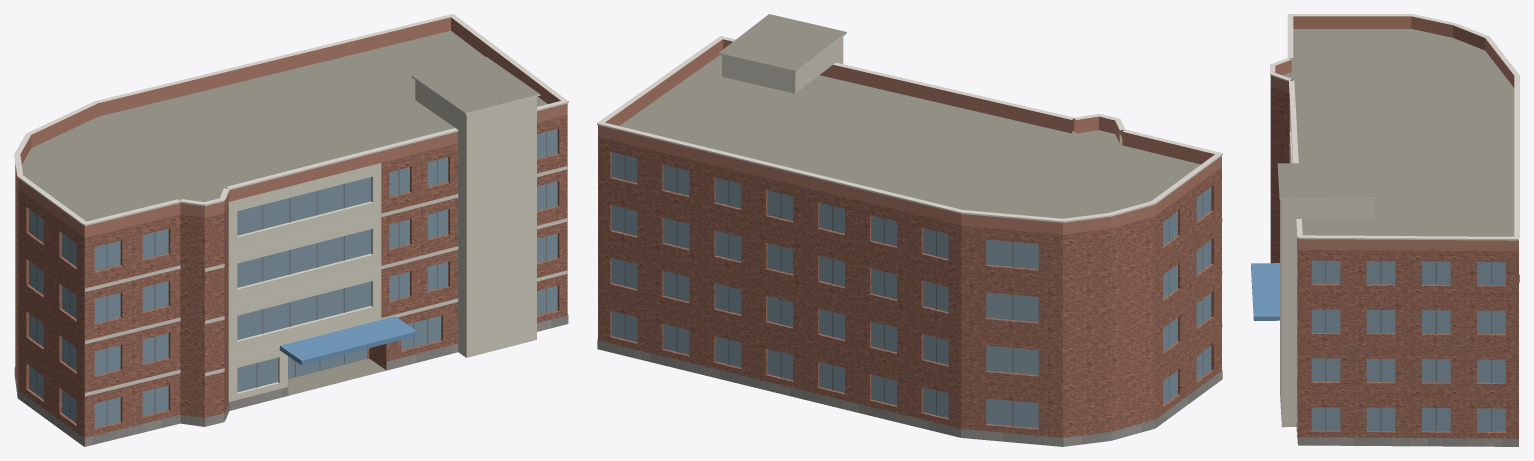
3 views of the same model, side by side, from view 1: azimuth 30°, elevation 25°; view 2: azimuth 150°, elevation 25°; view 3: azimuth 270°, elevation 25° (orthographic). The views are drawn at different scales.
Visible parts, largest first — view 1: rotc__wall, rotc__roof, rotc__wall2, rotc__glass, rotc__parapet, rotc__trim, rotc__base, rotc__canopy, rotc__frame; view 2: rotc__wall, rotc__roof, rotc__glass, rotc__parapet, rotc__base, rotc__trim, rotc__wall2, rotc__frame; view 3: rotc__roof, rotc__wall, rotc__glass, rotc__parapet, rotc__wall2, rotc__trim, rotc__base, rotc__canopy, rotc__frame.
Boxes of the visible parts, x1=… form: rotc__wall: x1=15, y1=115, x2=567, y2=446; rotc__roof: x1=22, y1=30, x2=547, y2=446; rotc__wall2: x1=228, y1=80, x2=536, y2=402; rotc__glass: x1=29, y1=129, x2=557, y2=427; rotc__parapet: x1=15, y1=17, x2=567, y2=237; rotc__trim: x1=14, y1=14, x2=568, y2=396; rotc__base: x1=14, y1=314, x2=568, y2=446; rotc__canopy: x1=279, y1=316, x2=416, y2=365; rotc__frame: x1=36, y1=132, x2=546, y2=424; rotc__wall: x1=598, y1=137, x2=1221, y2=446; rotc__roof: x1=620, y1=14, x2=1200, y2=218; rotc__glass: x1=612, y1=152, x2=1211, y2=428; rotc__parapet: x1=598, y1=39, x2=1221, y2=234; rotc__base: x1=597, y1=339, x2=1222, y2=446; rotc__trim: x1=597, y1=32, x2=1222, y2=327; rotc__wall2: x1=722, y1=37, x2=843, y2=93; rotc__frame: x1=624, y1=155, x2=1203, y2=426; rotc__roof: x1=1277, y1=29, x2=1514, y2=446; rotc__wall: x1=1270, y1=86, x2=1518, y2=444; rotc__glass: x1=1311, y1=260, x2=1505, y2=431; rotc__parapet: x1=1270, y1=16, x2=1518, y2=251; rotc__wall2: x1=1280, y1=100, x2=1374, y2=427; rotc__trim: x1=1270, y1=14, x2=1519, y2=392; rotc__base: x1=1296, y1=274, x2=1519, y2=446; rotc__canopy: x1=1251, y1=263, x2=1279, y2=320; rotc__frame: x1=1325, y1=260, x2=1491, y2=431.
Bounding box in the file's own units: 34.6 × 16.52 × 17.47.
10 materials, 2 textured.
